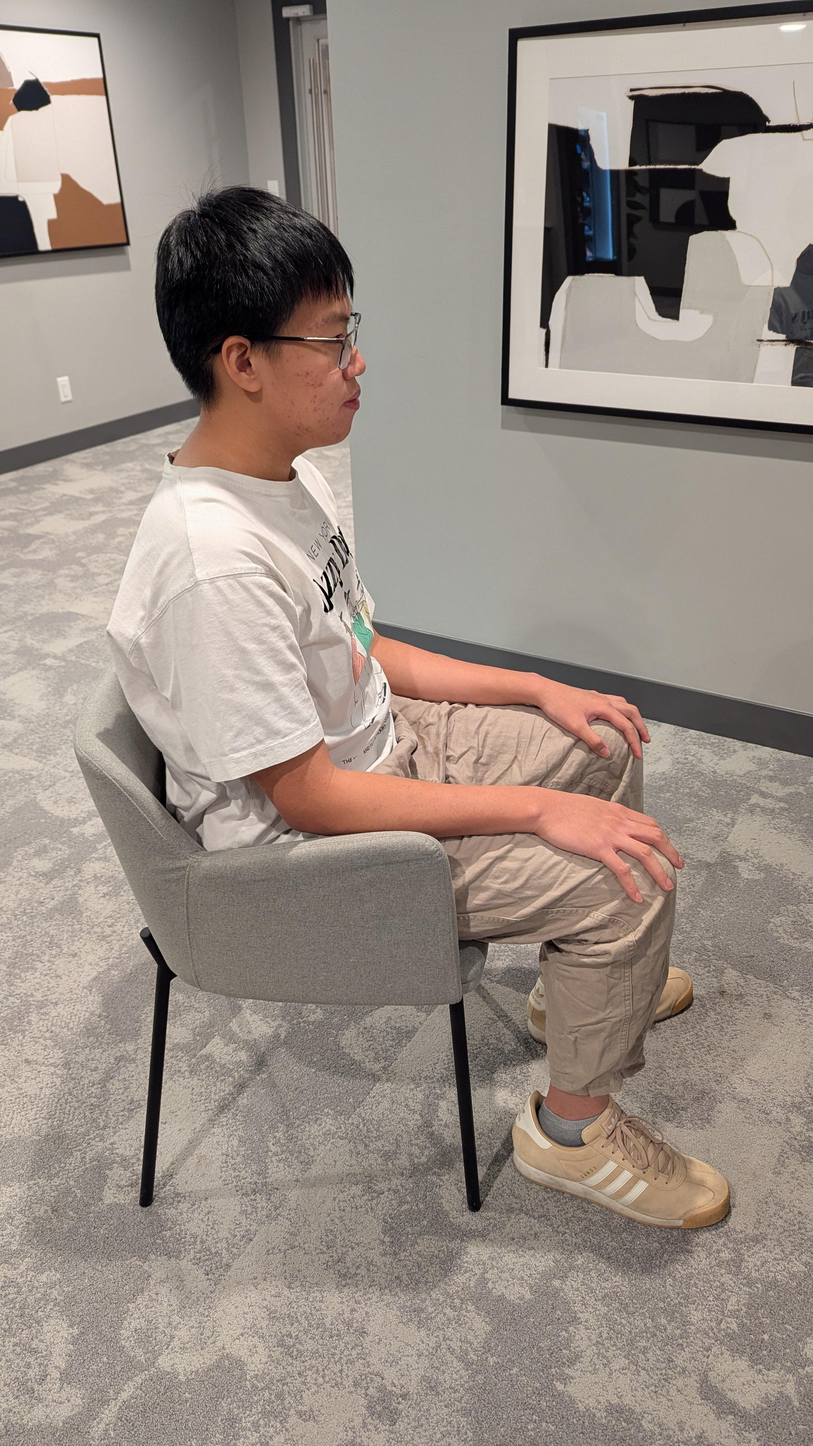GoodPosture: (106, 189, 731, 1230)
